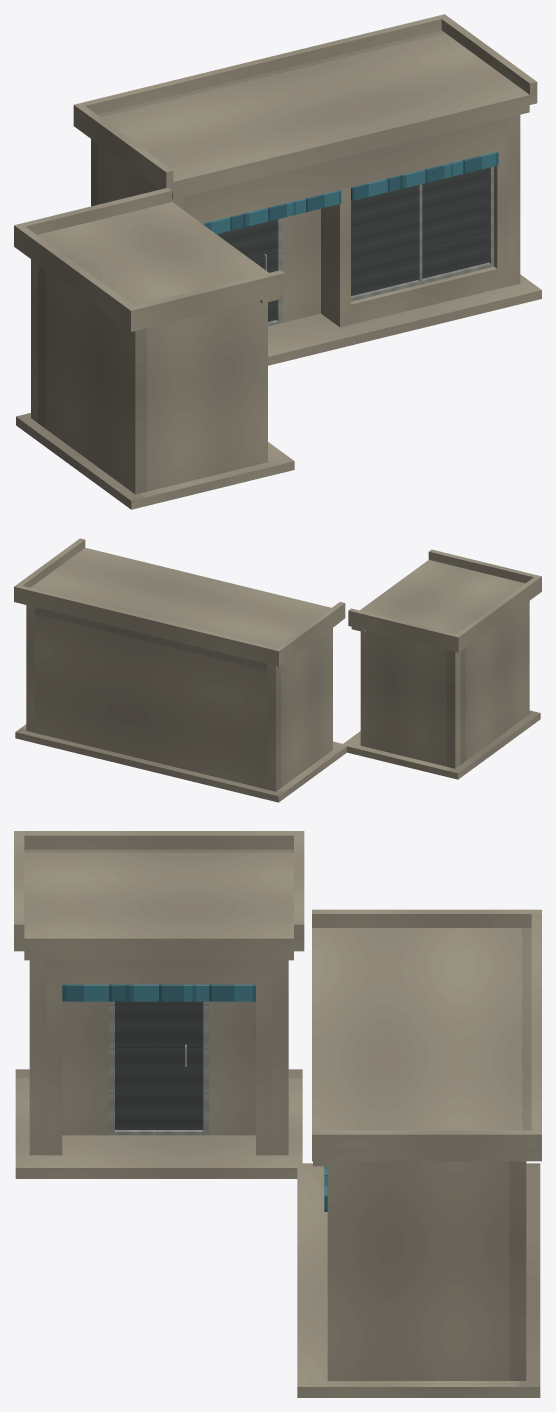
The model's file is almaty.glb.
3 views of the same model, one above another, from view 1: azimuth 30°, elevation 25°; view 2: azimuth 150°, elevation 25°; view 3: azimuth 270°, elevation 25° (orthographic). The views are drawn at different scales.
Parts seen in each view (by area): view 1: almaty; view 2: almaty; view 3: almaty.
Part boxes in pixels (<box>): almaty: <box>14,14,541,509</box>; almaty: <box>14,538,541,802</box>; almaty: <box>14,831,541,1397</box>.
Bounding box in the file's own units: 8.6 × 3.32 × 6.01.
1 material, 1 textured.
